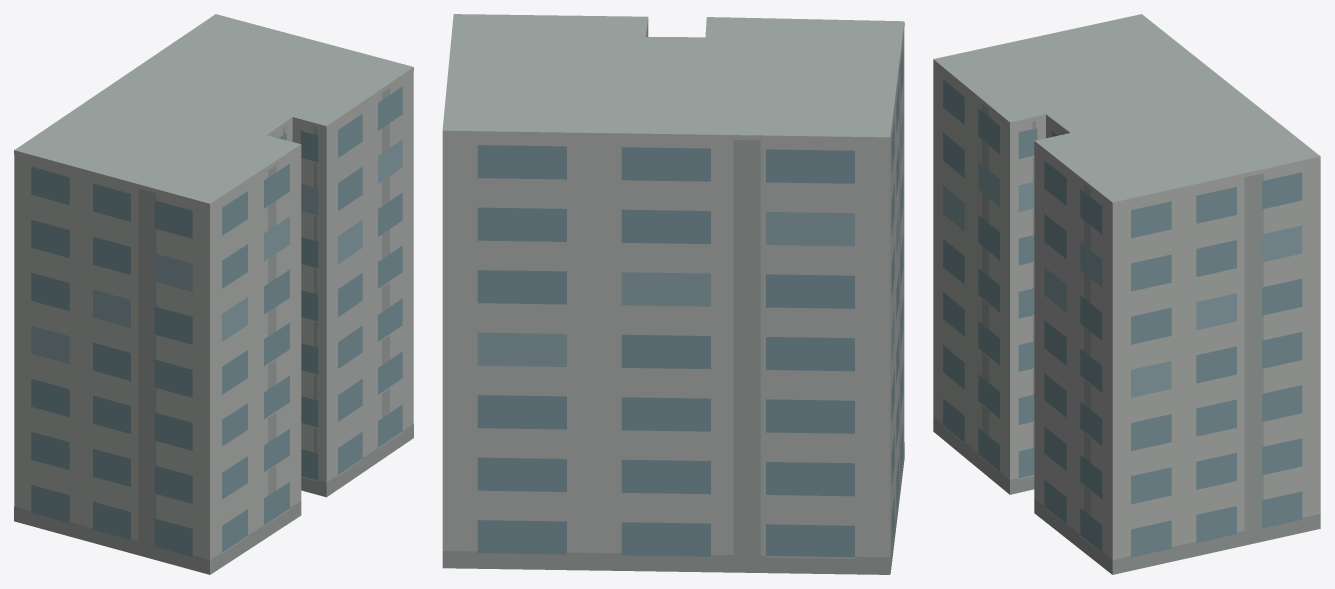
File: survey-upis-33013435.glb
3 views of the same model, side by side, from view 1: azimuth 30°, elevation 25°; view 2: azimuth 150°, elevation 25°; view 3: azimuth 270°, elevation 25° (orthographic). The views are drawn at different scales.
Visible parts, largest first — view 1: survey-upis-33013435.tmp; view 2: survey-upis-33013435.tmp; view 3: survey-upis-33013435.tmp.
Boxes of the visible parts, x1,y1,x2,y2 form: survey-upis-33013435.tmp: (14, 14, 413, 574); survey-upis-33013435.tmp: (442, 14, 904, 574); survey-upis-33013435.tmp: (933, 14, 1320, 574).
Bounding box in the file's own units: 23.19 × 21.35 × 20.14.
